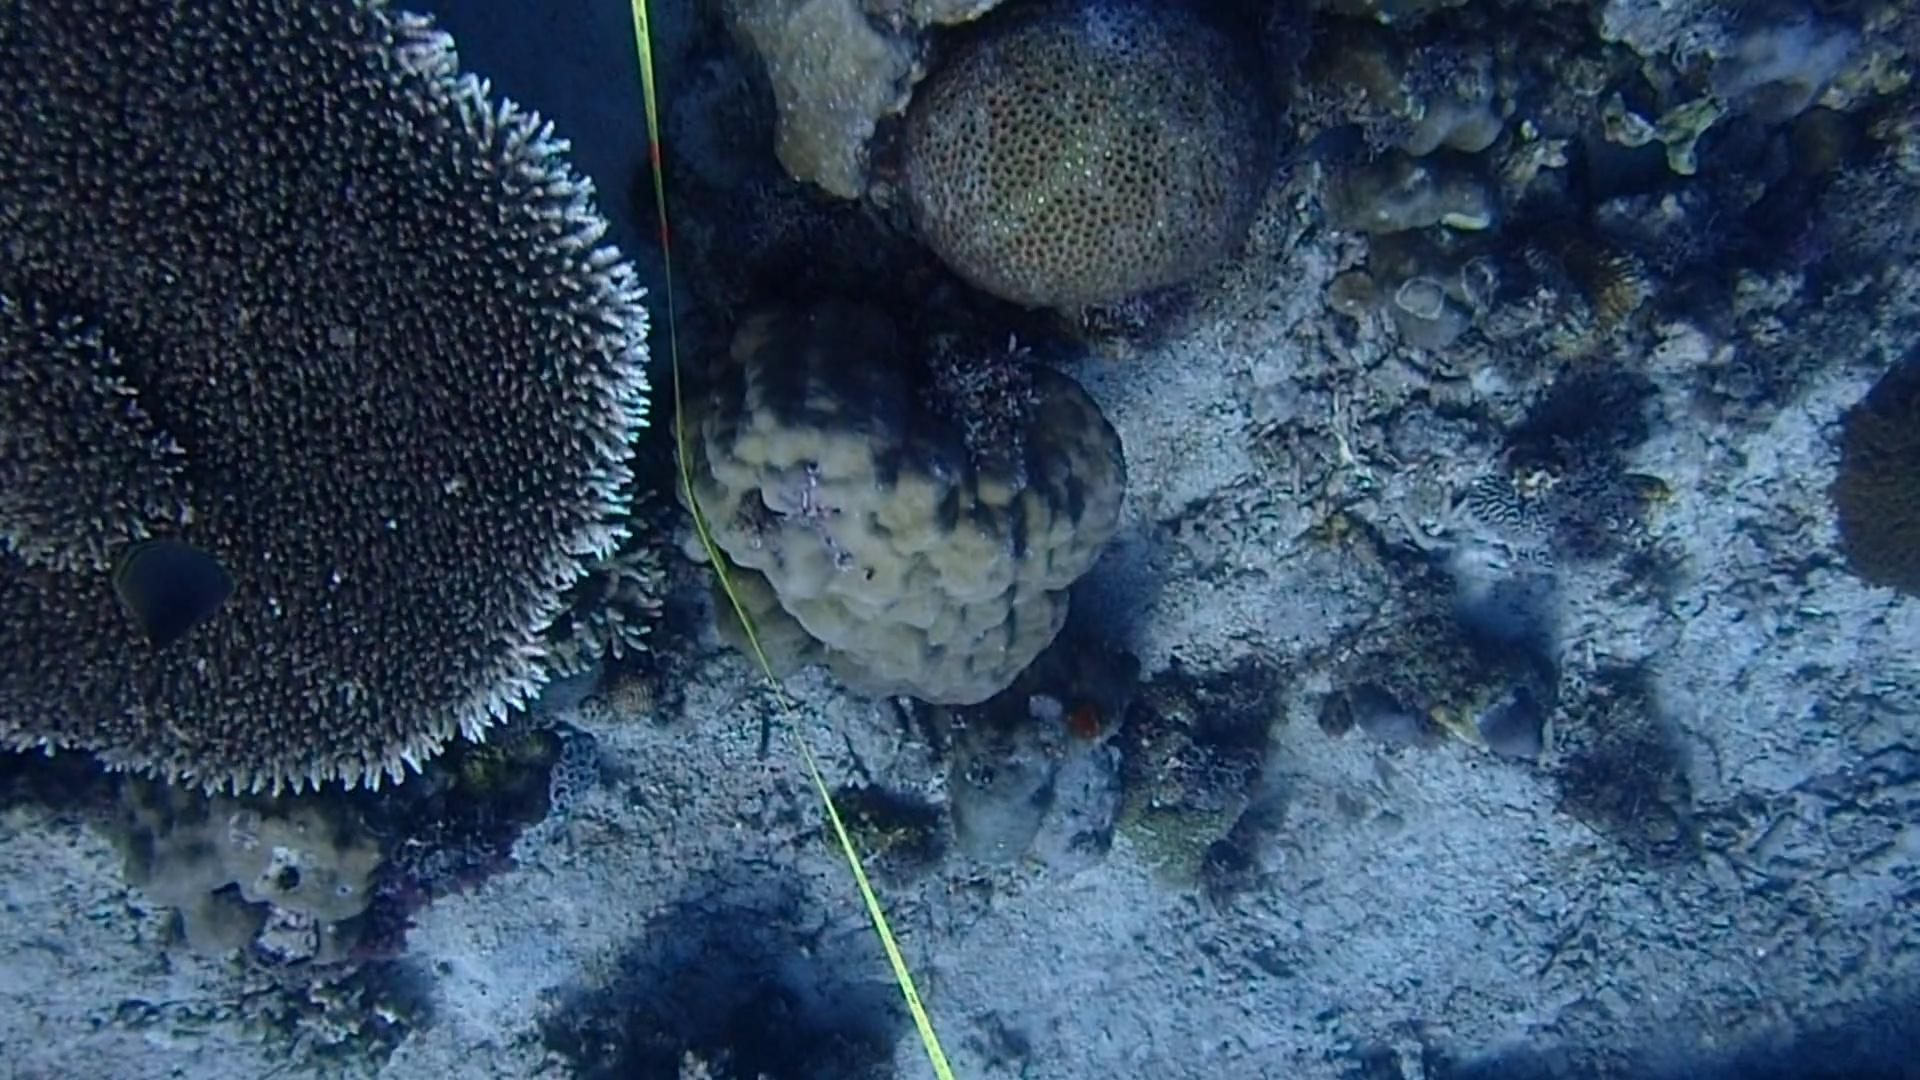Dark Blue Dory: (91, 538, 255, 657)
Light Fish: (1279, 105, 1382, 177)
